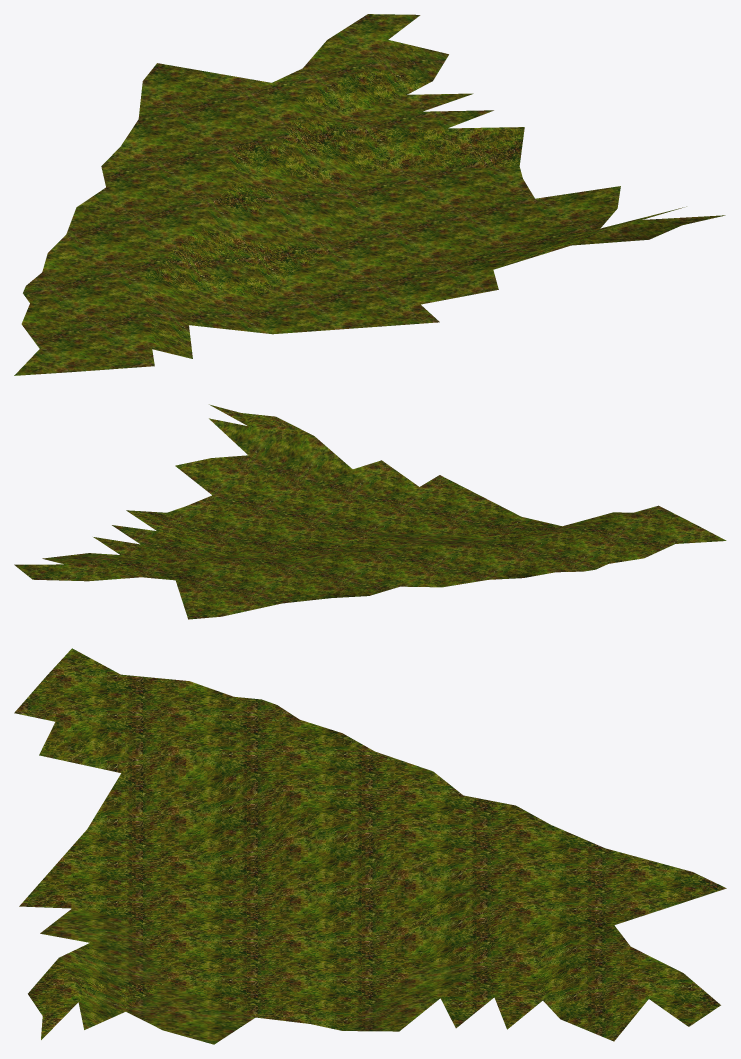
The model's file is TROLLHOLE02_LUKEGROUND03.fbx.
3 views of the same model, one above another, from view 1: azimuth 30°, elevation 25°; view 2: azimuth 150°, elevation 25°; view 3: azimuth 270°, elevation 25° (orthographic). The views are drawn at different scales.
Visible parts, largest first — view 1: TROLLHOLE02_LUKEGROUND03; view 2: TROLLHOLE02_LUKEGROUND03; view 3: TROLLHOLE02_LUKEGROUND03.
Part boxes in pixels (x1=…): TROLLHOLE02_LUKEGROUND03: x1=14, y1=14, x2=725, y2=375; TROLLHOLE02_LUKEGROUND03: x1=14, y1=404, x2=726, y2=619; TROLLHOLE02_LUKEGROUND03: x1=14, y1=648, x2=726, y2=1044.
Bounding box in the file's own units: 480304 × 19100 × 368766.
1 material, 1 textured.
